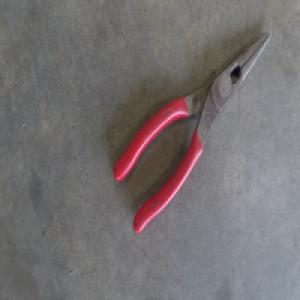Pliers: (113, 29, 274, 232)
